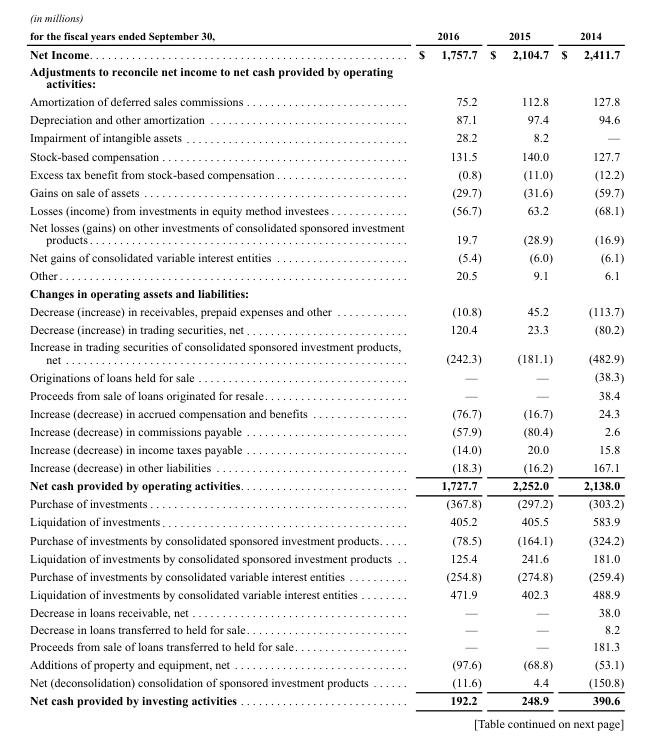table: (29, 29, 623, 706)
table column: (29, 29, 410, 706), (410, 29, 484, 706), (484, 29, 556, 706), (556, 29, 623, 706)
table column header: (29, 29, 623, 44)
table projected row header: (29, 62, 623, 92), (29, 284, 623, 302)
table row: (29, 62, 623, 92), (29, 337, 623, 367), (29, 218, 623, 247), (29, 265, 623, 284), (29, 457, 623, 476), (29, 672, 623, 691), (29, 44, 623, 62), (29, 92, 623, 110), (29, 110, 623, 128), (29, 128, 623, 146), (29, 146, 623, 164), (29, 164, 623, 182), (29, 182, 623, 200), (29, 200, 623, 218), (29, 247, 623, 265), (29, 284, 623, 302), (29, 302, 623, 320), (29, 367, 623, 385), (29, 385, 623, 403), (29, 403, 623, 421), (29, 421, 623, 439), (29, 439, 623, 457), (29, 476, 623, 494), (29, 494, 623, 512), (29, 512, 623, 530), (29, 530, 623, 548), (29, 548, 623, 566), (29, 566, 623, 584), (29, 584, 623, 602), (29, 602, 623, 620), (29, 654, 623, 672), (29, 320, 623, 337), (29, 620, 623, 637), (29, 637, 623, 654), (29, 29, 623, 44), (29, 691, 623, 706)
